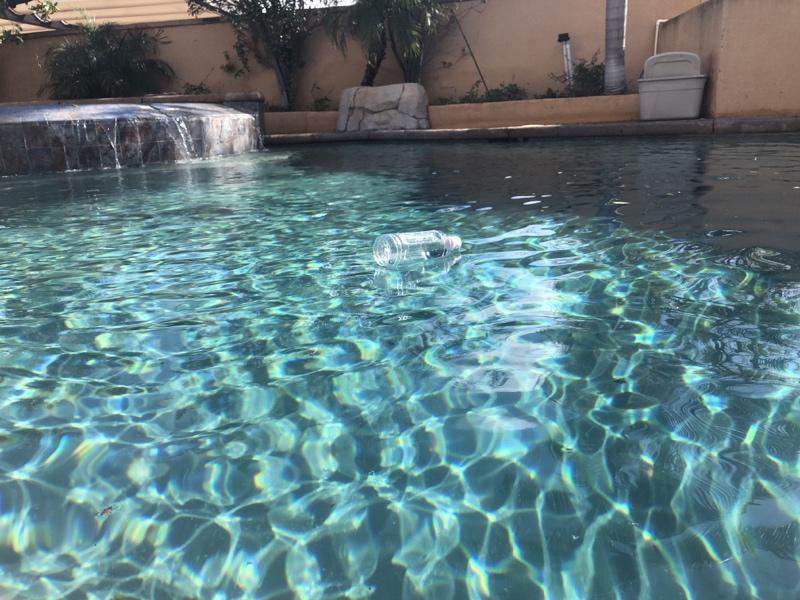Plastic Bottle: (369, 225, 467, 267)
